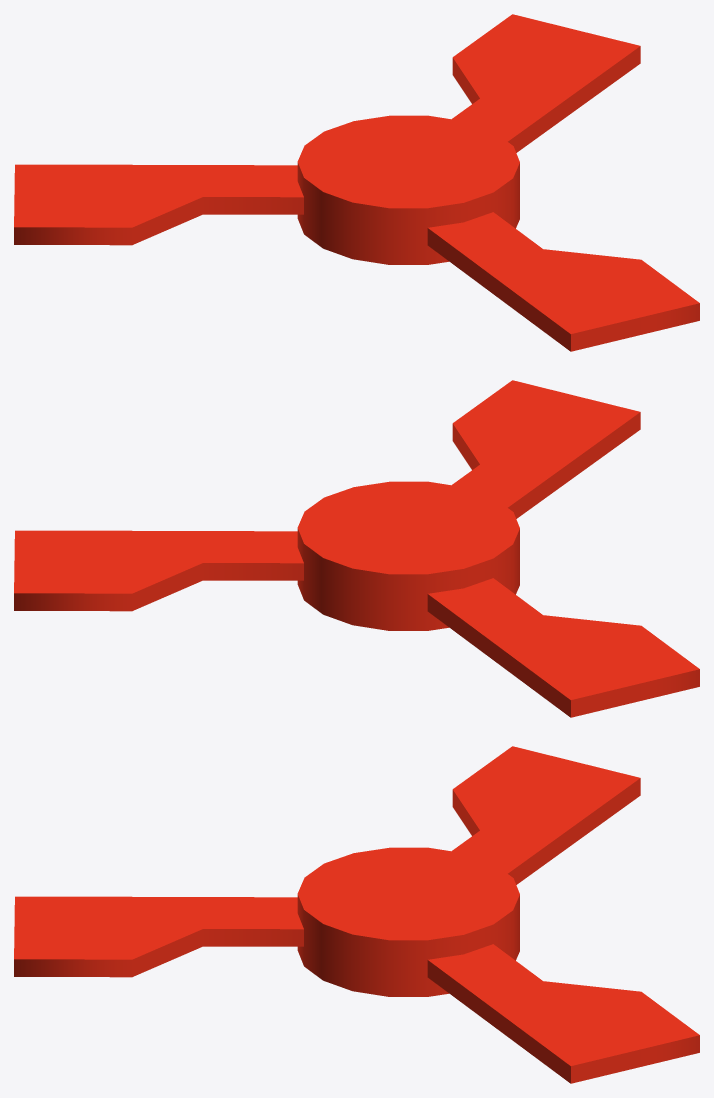
The model's file is RTS_Drone_left_wing_prop.fbx.
3 renders of one model, top to bottom at view 1: azimuth 30°, elevation 25°; view 2: azimuth 150°, elevation 25°; view 3: azimuth 270°, elevation 25°, orthographic.
Visible parts, largest first — view 1: left_wing_prop; view 2: left_wing_prop; view 3: left_wing_prop.
Boxes of the visible parts, left/top/right/bottom form: left_wing_prop: left=14, top=14, right=699, bottom=351; left_wing_prop: left=14, top=380, right=699, bottom=717; left_wing_prop: left=14, top=746, right=699, bottom=1083.
Bounding box in the file's own units: 1.62 × 0.1339 × 1.47.
